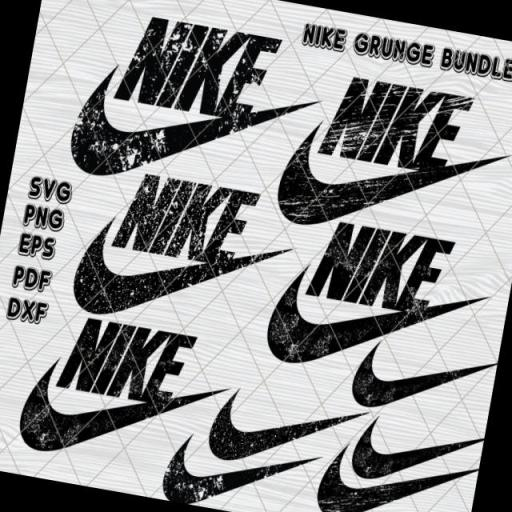Nike: (316, 72, 474, 179), (346, 340, 497, 431)
